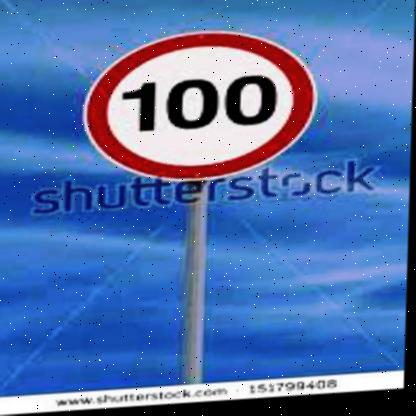Speed Limit -100-: (82, 24, 322, 194)
